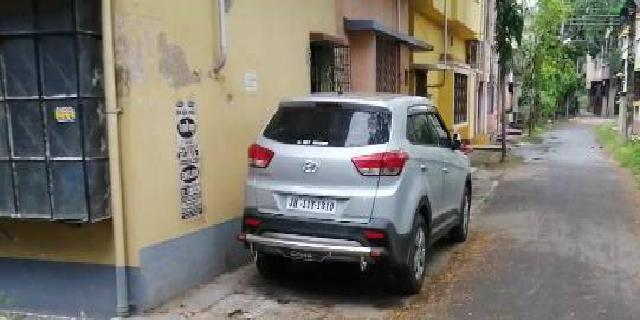Car: (240, 87, 480, 293)
